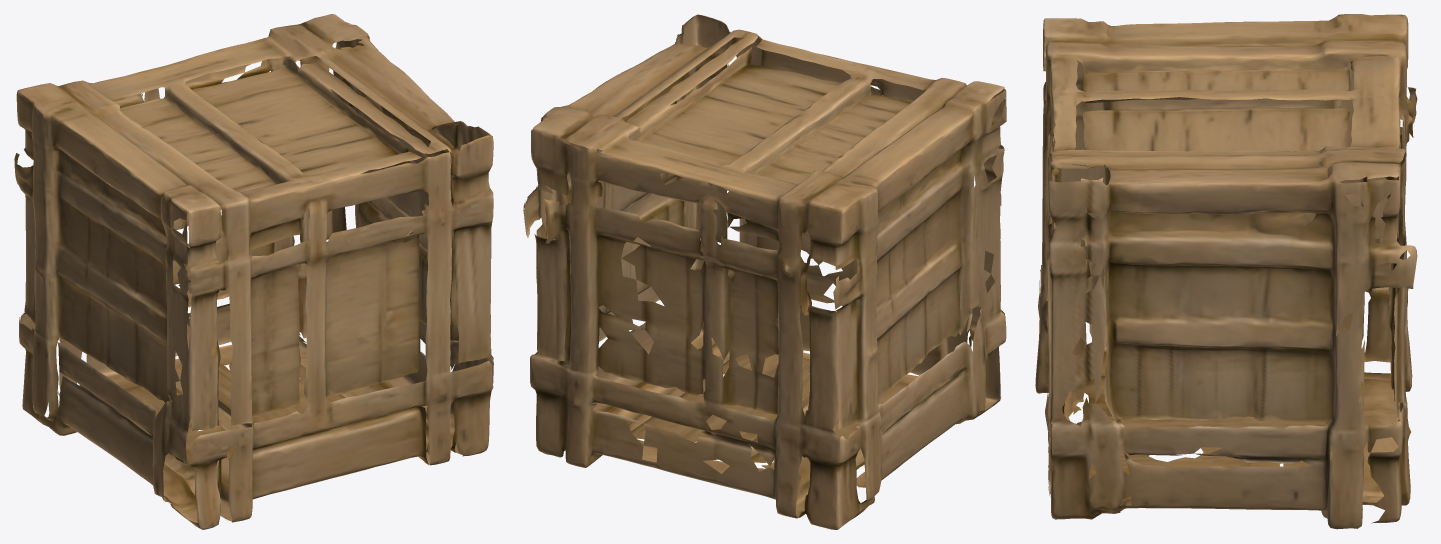
The model's file is prop_crate.glb.
3 views of the same model, side by side, from view 1: azimuth 30°, elevation 25°; view 2: azimuth 150°, elevation 25°; view 3: azimuth 270°, elevation 25° (orthographic). The views are drawn at different scales.
Parts seen in each view (by area): view 1: world; view 2: world; view 3: world.
Part boxes in pixels (x1,y1,x2,y2): world: [14, 14, 493, 529]; world: [523, 14, 1006, 529]; world: [1035, 14, 1417, 529].
Bounding box in the file's own units: 1 × 0.9492 × 0.9541.
Materials: 1 (1 with a texture image).
